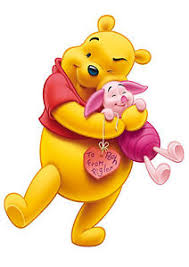Winnie: (55, 9, 149, 118)
